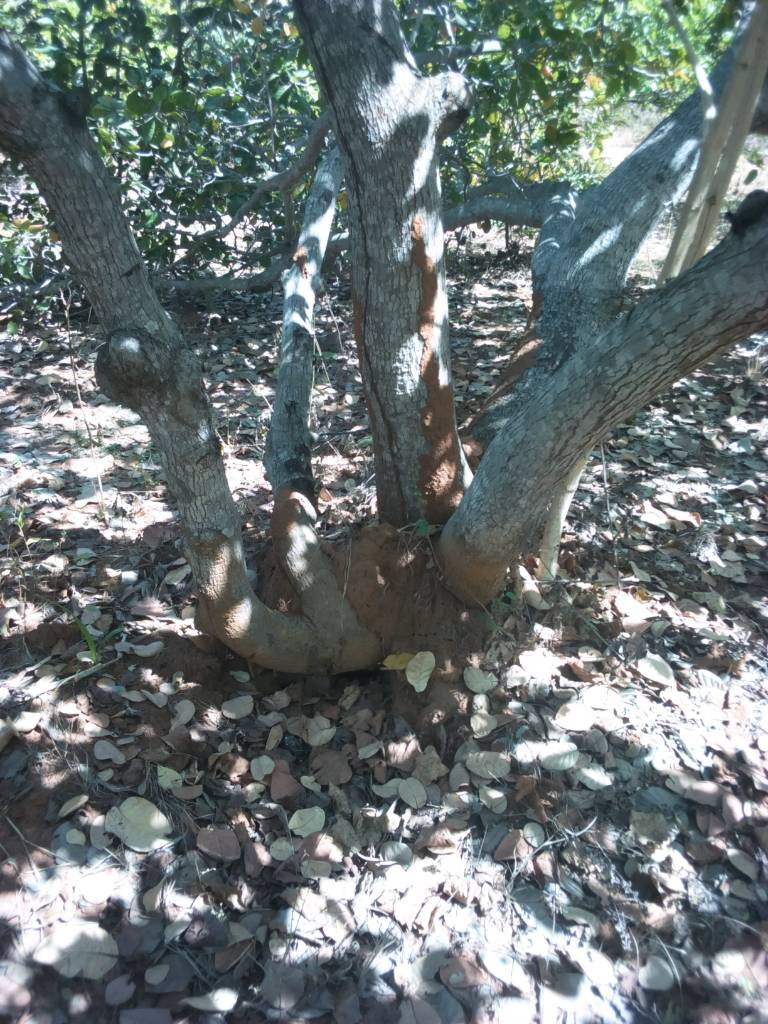Termites: (404, 219, 461, 508), (340, 532, 447, 633), (194, 532, 249, 644)
